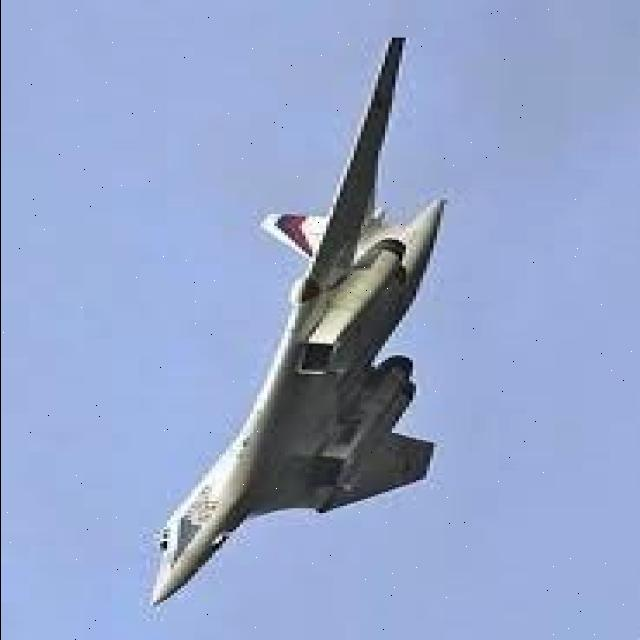Tu160: (121, 2, 486, 628)
